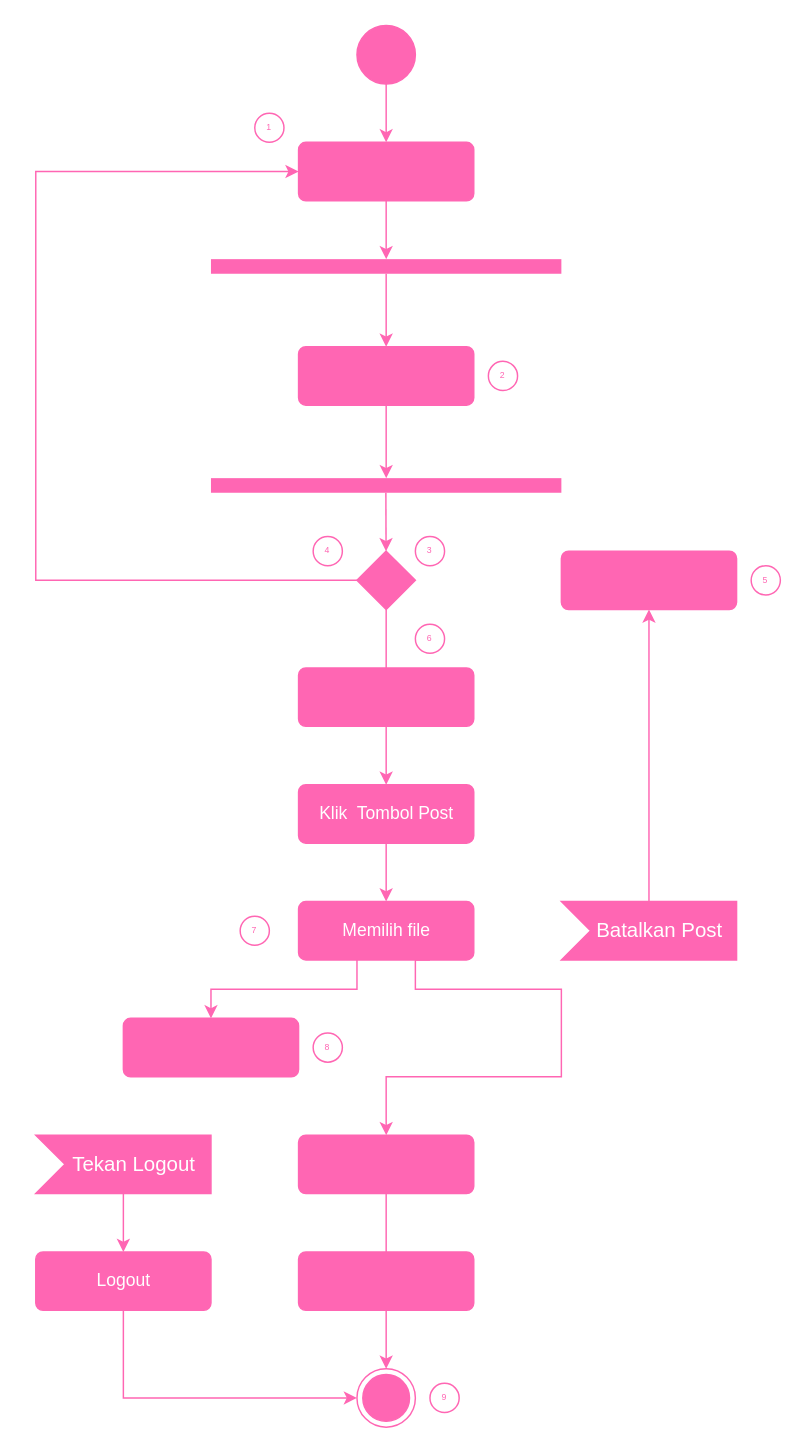
This 806x1453 diagram has some shape labels left out. Each missing label, with the box of its shape:
Klik Discard: (560, 550, 737, 610)
Lihat Menu Utama: (297, 666, 474, 726)
Login: (297, 141, 474, 201)
Memakai filter: (122, 1017, 299, 1077)
Mengisi caption: (297, 1134, 474, 1194)
Menglik Share: (297, 1250, 474, 1310)
Verifikasi username dan password: (297, 345, 474, 405)
